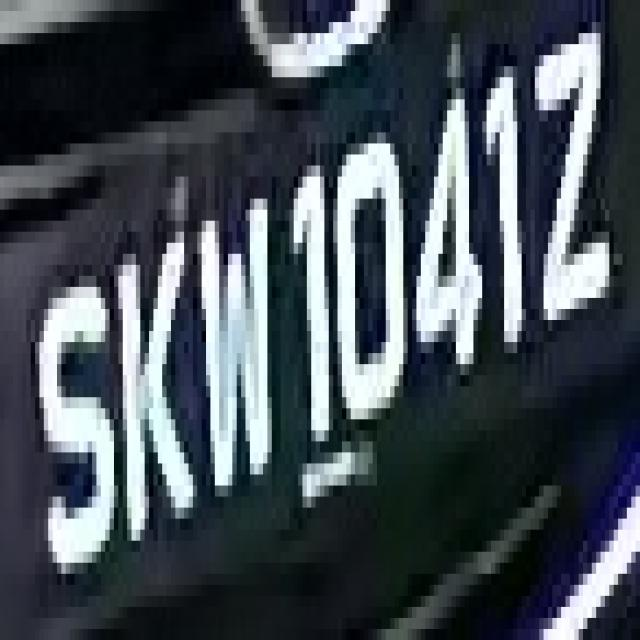0: (324, 100, 404, 452)
1: (474, 22, 530, 397), (285, 132, 333, 518)
4: (395, 55, 482, 408)
K: (105, 210, 193, 584)
S: (35, 254, 123, 574)
W: (180, 154, 285, 540)
Z: (518, 0, 622, 353)
